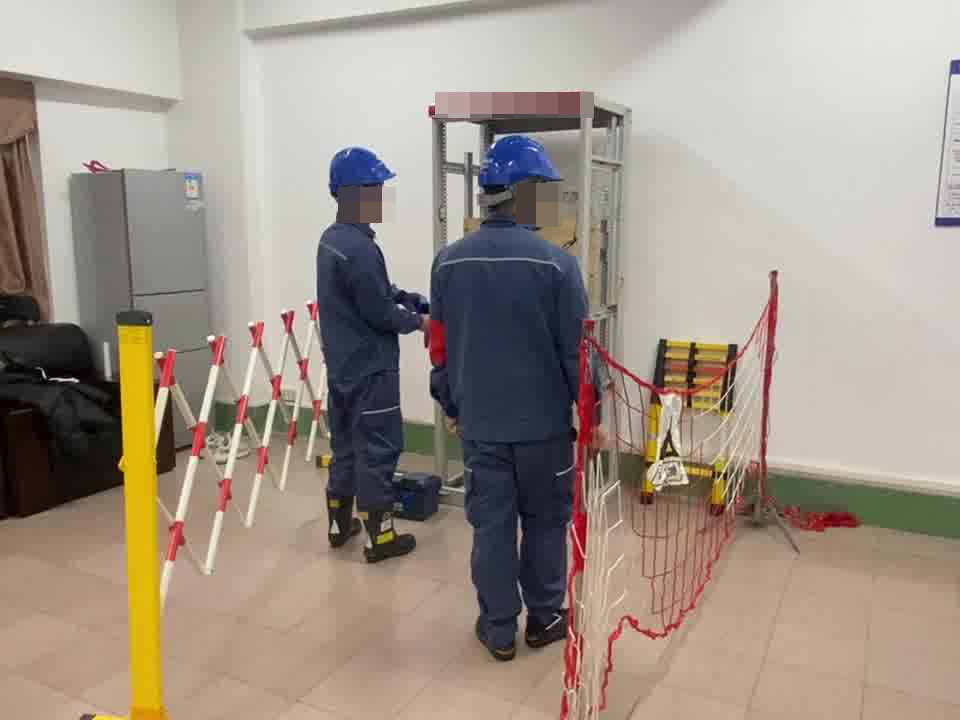badge: (424, 317, 449, 368)
downsuit: (463, 452, 574, 635), (324, 379, 406, 506)
glove: (398, 290, 430, 318)
halt: (476, 133, 566, 225), (326, 145, 398, 221)
hand: (439, 408, 465, 447), (589, 427, 605, 447)
inear: (512, 184, 545, 217), (338, 188, 371, 216)
person: (426, 131, 597, 658), (311, 145, 424, 544)
shoe: (320, 496, 415, 565)
upsuit: (434, 222, 588, 439), (316, 225, 409, 370)
